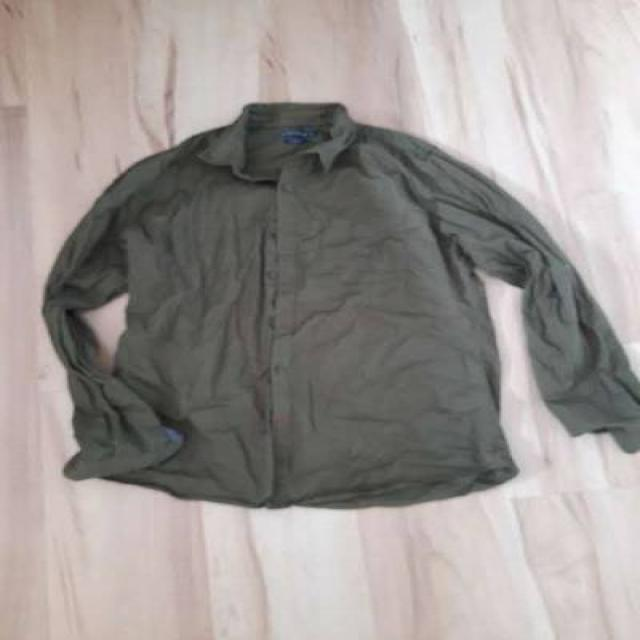Clothes -Biodegradable-: (37, 105, 640, 508)
